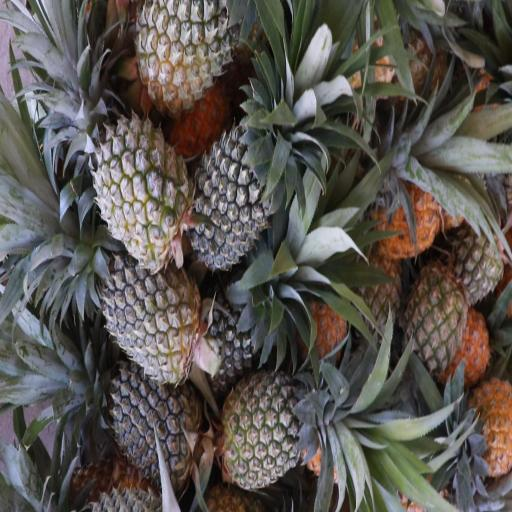------------------------------: (99, 116, 187, 268), (222, 365, 320, 484), (140, 0, 241, 107), (405, 271, 470, 375)
Pineapple - v8 v1: (378, 160, 444, 256), (466, 375, 512, 473)
